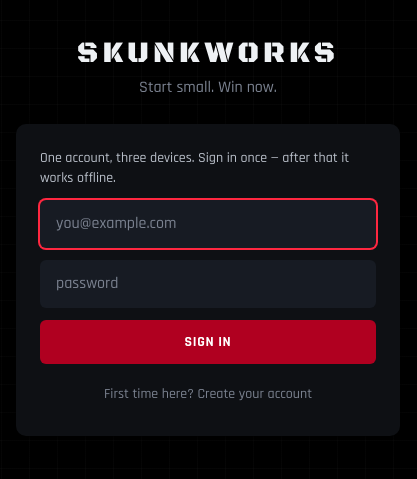
SignIn › shows a gentle message for wrong credentials
The image size is (417, 479).
Type "tim@example.com" into the field named "email" at (208, 224), box [40,200,376,248]
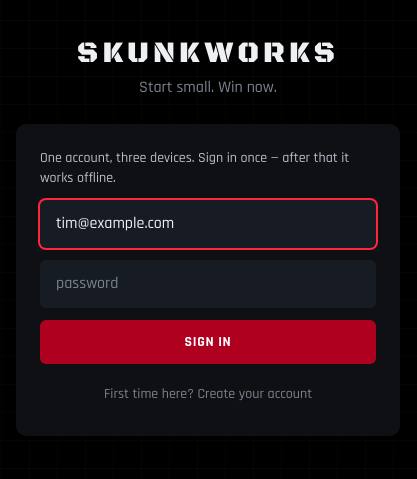
Type "hunter22" into the password field labelled "password" at (208, 284), box [40,260,376,308]
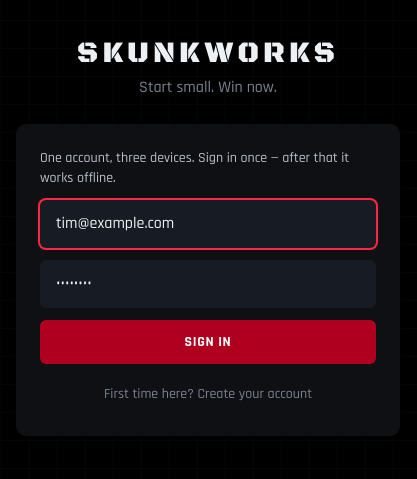
Click the button "Sign in" at (208, 342), box [40,320,376,364]
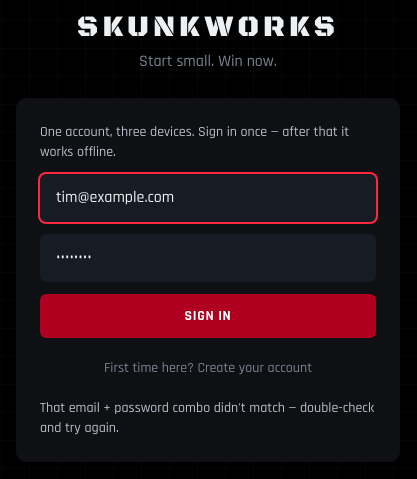
Result: the message shows "didn't match" at [40,399,374,437]
